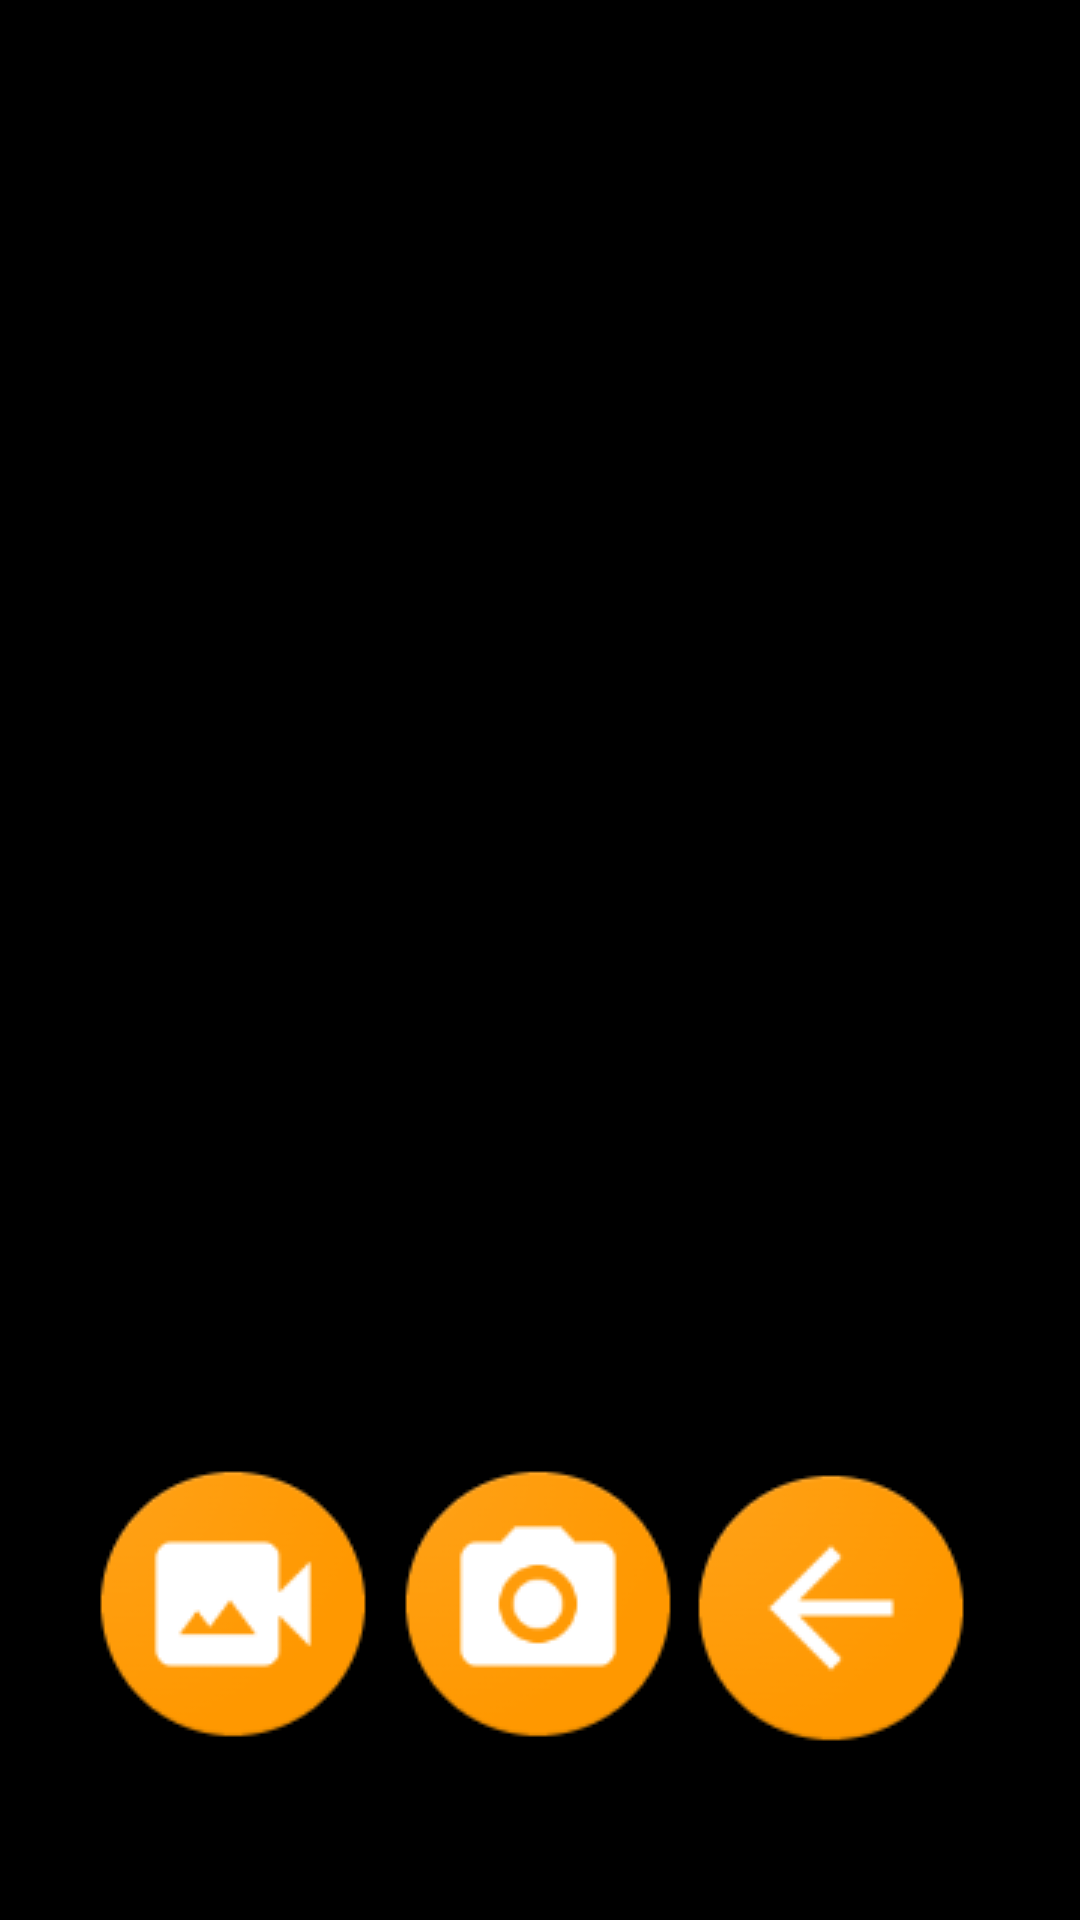

Where to tap for icons on this 1080*1920 app screen, as [x,y]:
ret: [831,1608]
